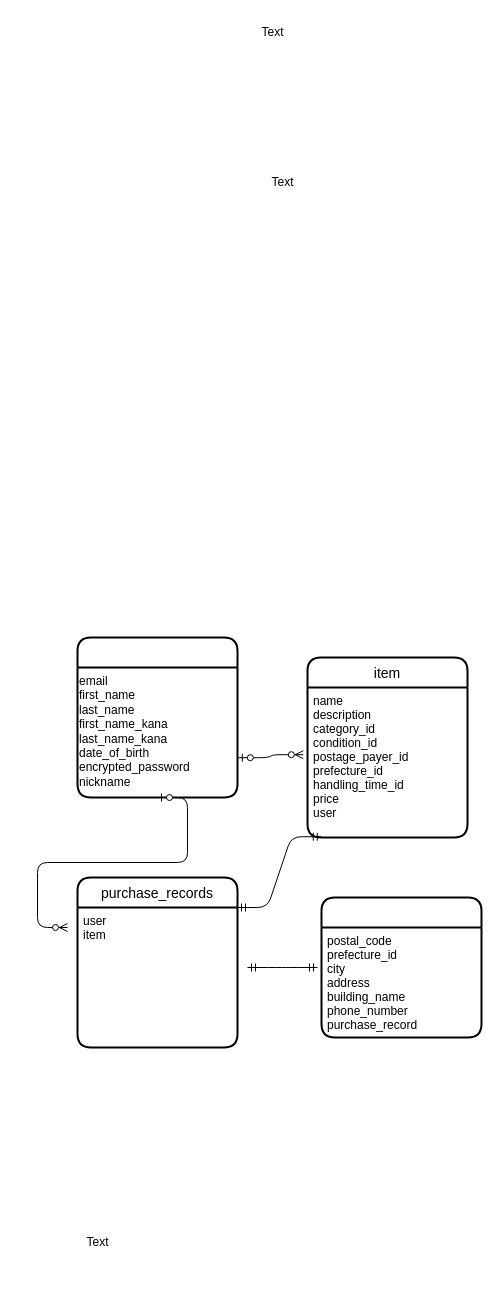
Some shapes in this 499 by 1304 pixel diagram are drawn without their labels. Each missing label, with the box of its shape:
shipping_addresses: (320, 896, 482, 1038)
user: (76, 636, 238, 798)
